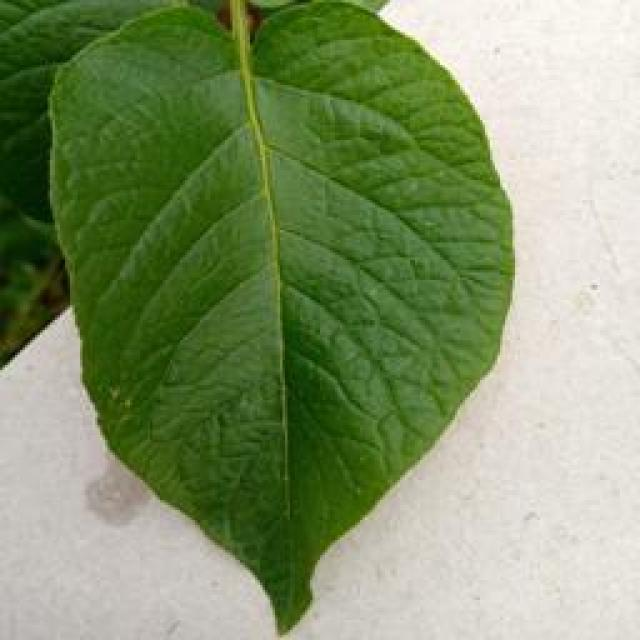healthy: (40, 0, 520, 638)
